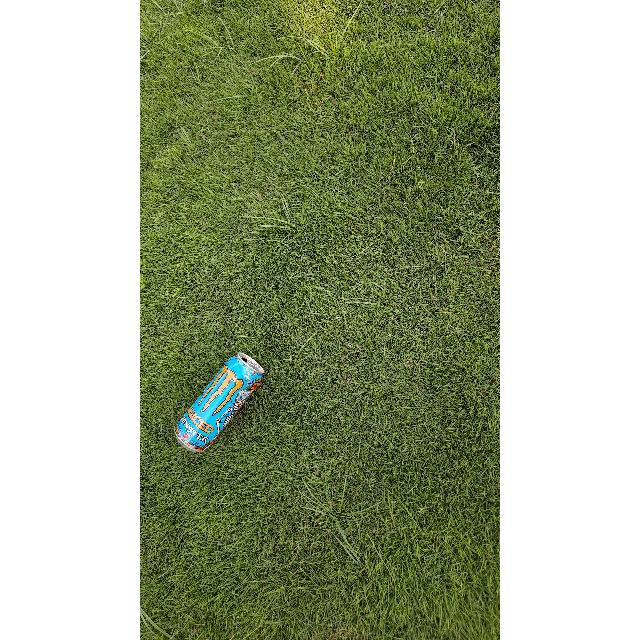Monster Mango Loco: (172, 350, 266, 452)
